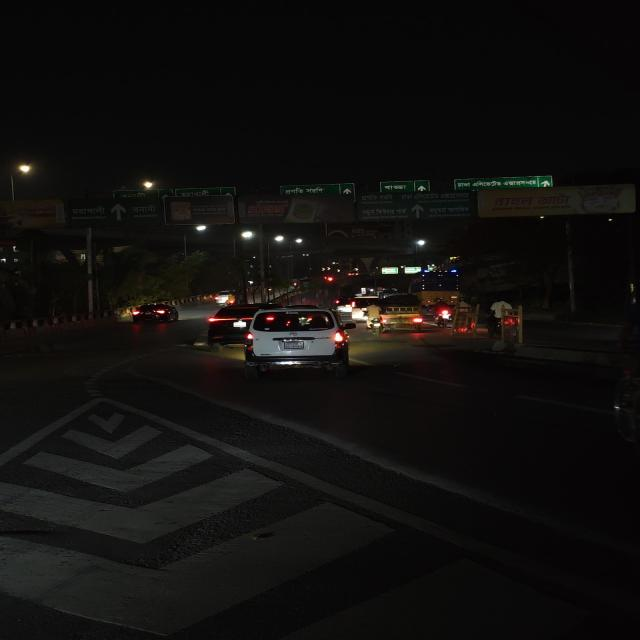car: (246, 310, 348, 373), (199, 309, 261, 342), (126, 302, 178, 326), (205, 290, 235, 306), (349, 294, 364, 324), (338, 298, 356, 316)
motorcycle: (364, 305, 384, 340), (434, 300, 450, 330)
pickup_van: (382, 296, 418, 334)
truck: (416, 277, 462, 306)
